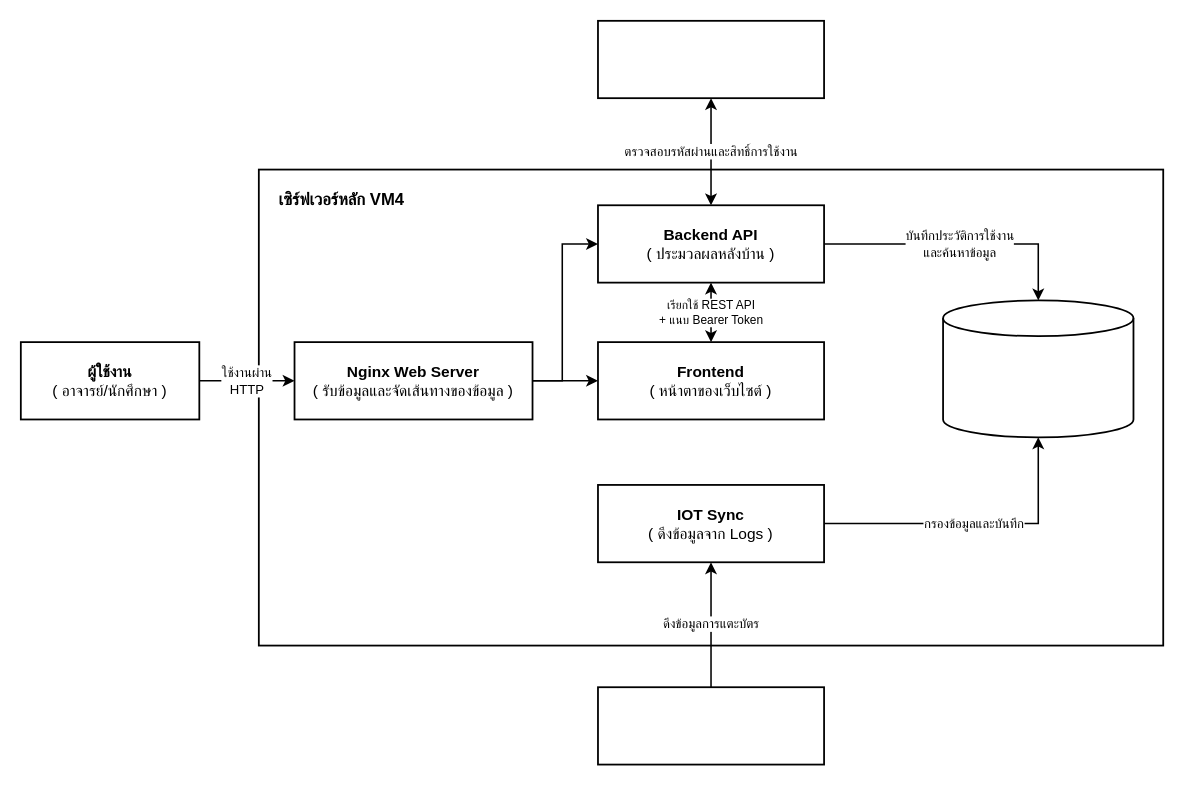
The diagram is 1185 pixels wide and 787 high, and some of its shapes have lost their labels. Each missing label, with the centre of its shape:
Central Auth API ( กลุ่ม 3 ): [710,59]
IOT Server ( กลุ่ม 6 ): [710,725]
MariaDB Database ( เก็บข้อมูลการแตะบัตร & ประวัติการใช้งาน ): [1038,368]
